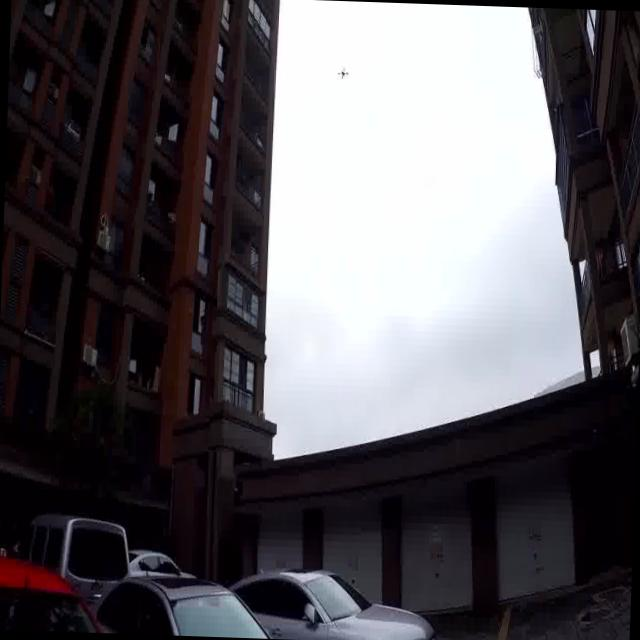drone: (337, 64, 348, 86)
